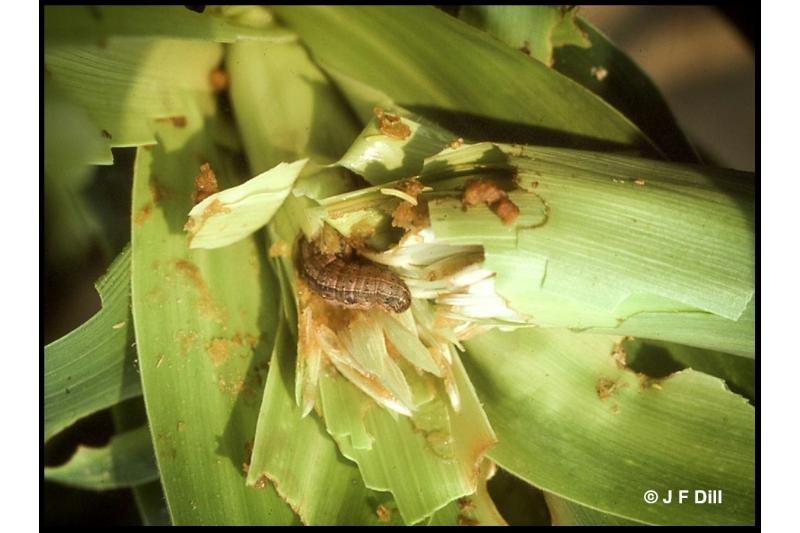fall-armyworm: (301, 221, 413, 315)
